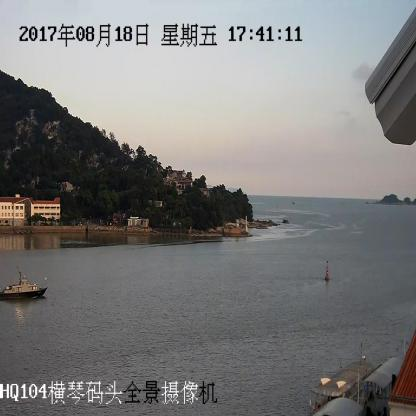Fishing Boat: (0, 270, 48, 296)
